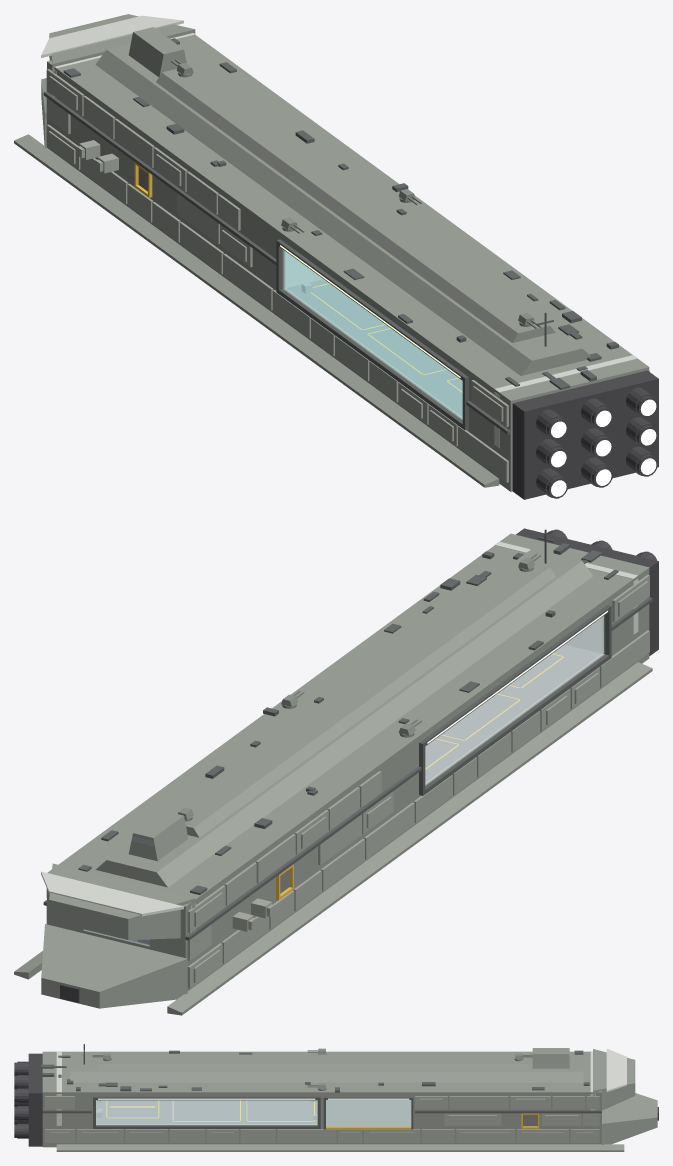
The model's file is ship_MEDIUM_v1.glb.
3 renders of one model, top to bottom at view 1: azimuth 30°, elevation 25°; view 2: azimuth 150°, elevation 25°; view 3: azimuth 270°, elevation 25°, orthographic. The views are drawn at different scales.
Parts seen in each view (by area): view 1: MEDIUM_Hull-col, MEDIUM_Armor, MEDIUM_Engines, MEDIUM_HangarShield_Port, MEDIUM_Trim, MEDIUM_Decks-col, MEDIUM_Accent, MEDIUM_Details, MEDIUM_EngineGlow, MEDIUM_Interior-col, MEDIUM_Hazard; view 2: MEDIUM_Hull-col, MEDIUM_Armor, MEDIUM_HangarShield_Port, MEDIUM_Decks-col, MEDIUM_Trim, MEDIUM_Accent, MEDIUM_Details, MEDIUM_Engines, MEDIUM_Interior-col, MEDIUM_Hazard; view 3: MEDIUM_Hull-col, MEDIUM_Armor, MEDIUM_HangarShield_Starboard, MEDIUM_Decks-col, MEDIUM_Trim, MEDIUM_Engines, MEDIUM_CargoBayShield, MEDIUM_CargoBayDoor-col, MEDIUM_Accent, MEDIUM_Hazard, MEDIUM_Details, MEDIUM_Lights (+1 smaller).
Part boxes in pixels (x1=…): MEDIUM_Hull-col: x1=14, y1=14, x2=649, y2=491; MEDIUM_Armor: x1=46, y1=69, x2=649, y2=482; MEDIUM_Engines: x1=512, y1=370, x2=658, y2=499; MEDIUM_HangarShield_Port: x1=284, y1=251, x2=462, y2=418; MEDIUM_Trim: x1=43, y1=91, x2=510, y2=434; MEDIUM_Decks-col: x1=286, y1=279, x2=462, y2=416; MEDIUM_Accent: x1=41, y1=15, x2=637, y2=447; MEDIUM_Details: x1=63, y1=38, x2=618, y2=389; MEDIUM_EngineGlow: x1=551, y1=399, x2=656, y2=496; MEDIUM_Interior-col: x1=286, y1=252, x2=322, y2=287; MEDIUM_Hazard: x1=134, y1=162, x2=462, y2=392; MEDIUM_Hull-col: x1=14, y1=533, x2=652, y2=1015; MEDIUM_Armor: x1=46, y1=574, x2=649, y2=988; MEDIUM_HangarShield_Port: x1=425, y1=616, x2=603, y2=784; MEDIUM_Decks-col: x1=135, y1=645, x2=601, y2=941; MEDIUM_Trim: x1=43, y1=597, x2=652, y2=940; MEDIUM_Accent: x1=41, y1=541, x2=638, y2=932; MEDIUM_Details: x1=78, y1=529, x2=618, y2=894; MEDIUM_Engines: x1=60, y1=528, x2=658, y2=1002; MEDIUM_Interior-col: x1=565, y1=617, x2=601, y2=653; MEDIUM_Hazard: x1=276, y1=653, x2=563, y2=899; MEDIUM_Hull-col: x1=42, y1=1048, x2=657, y2=1151; MEDIUM_Armor: x1=45, y1=1096, x2=599, y2=1142; MEDIUM_HangarShield_Starboard: x1=96, y1=1100, x2=317, y2=1124; MEDIUM_Decks-col: x1=96, y1=1100, x2=317, y2=1124; MEDIUM_Trim: x1=42, y1=1096, x2=601, y2=1129; MEDIUM_Engines: x1=14, y1=1053, x2=658, y2=1146; MEDIUM_CargoBayShield: x1=326, y1=1100, x2=411, y2=1126; MEDIUM_CargoBayDoor-col: x1=326, y1=1100, x2=411, y2=1125; MEDIUM_Accent: x1=56, y1=1049, x2=626, y2=1125; MEDIUM_Hazard: x1=106, y1=1100, x2=539, y2=1129; MEDIUM_Details: x1=41, y1=1044, x2=589, y2=1092; MEDIUM_Lights: x1=98, y1=1098, x2=409, y2=1099.
Size of the model in its own units: 25.8 by 21.4 by 140.
